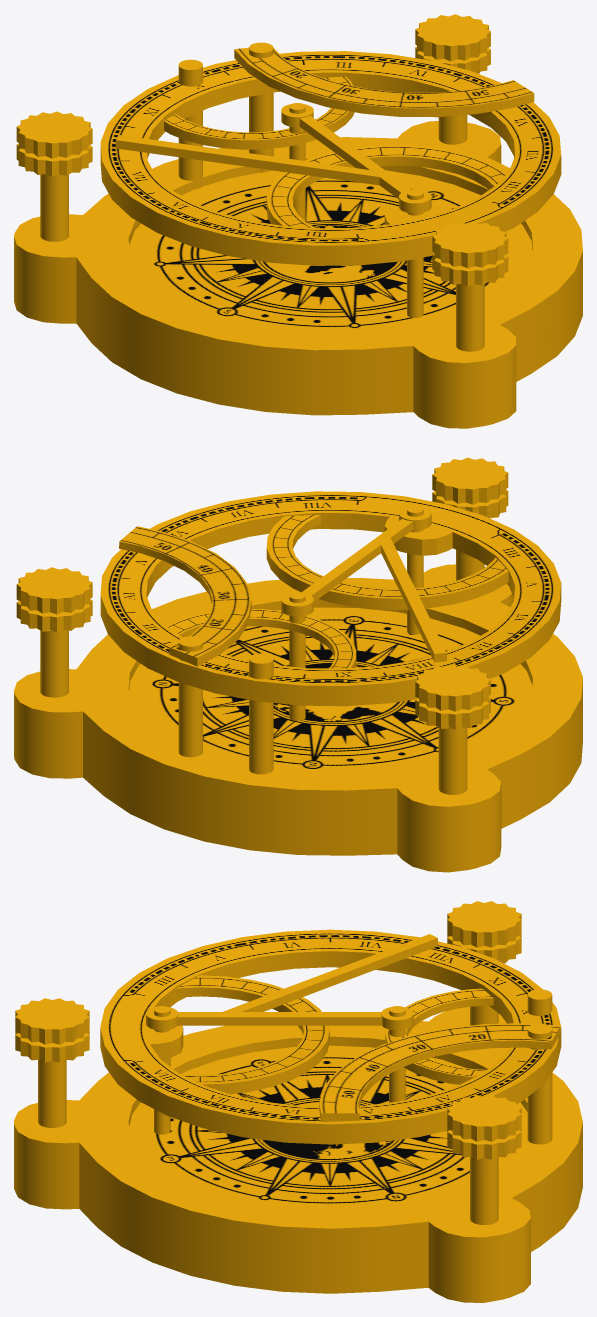
Rendered from MO_Artifact.fbx.
3 renders of one model, top to bottom at view 1: azimuth 30°, elevation 25°; view 2: azimuth 150°, elevation 25°; view 3: azimuth 270°, elevation 25°, orthographic.
Parts seen in each view (by area): view 1: Artifact; view 2: Artifact; view 3: Artifact.
Part boxes in pixels (box(x1,y1,x2,y2)): Artifact: box(14, 14, 582, 428); Artifact: box(14, 457, 582, 872); Artifact: box(14, 901, 582, 1302).
Bounding box in the file's own units: 25.71 × 9.25 × 26.77.
